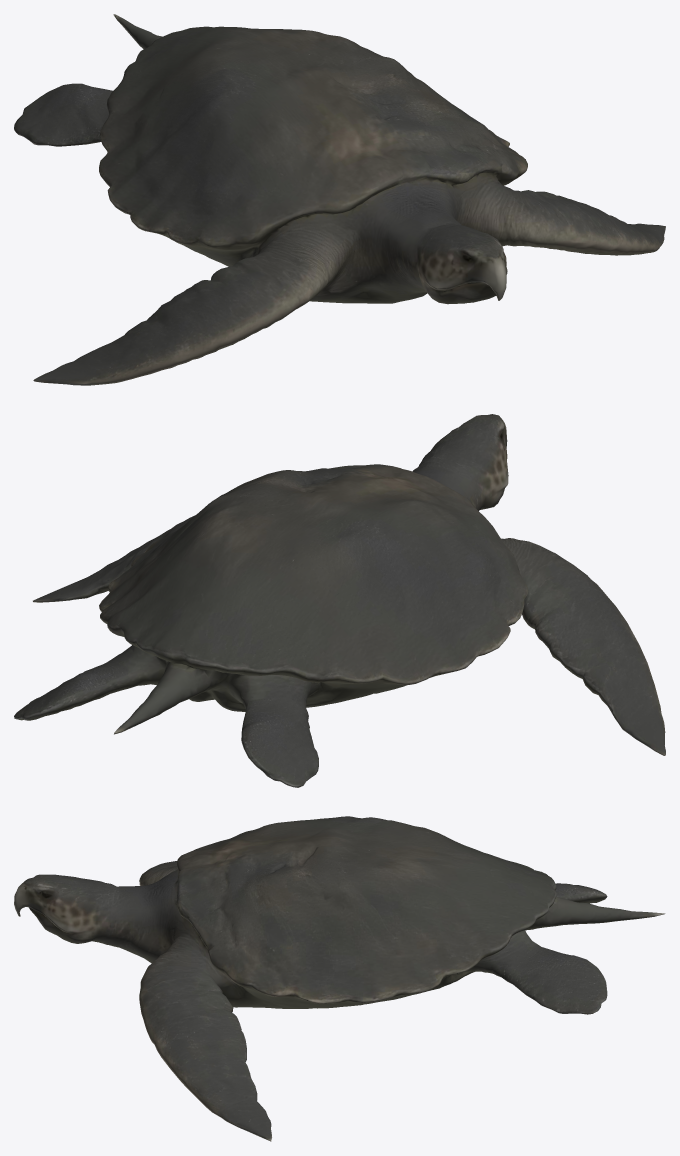
Rendered from archelon.preview.glb.
3 renders of one model, top to bottom at view 1: azimuth 30°, elevation 25°; view 2: azimuth 150°, elevation 25°; view 3: azimuth 270°, elevation 25°, orthographic. The views are drawn at different scales.
Visible parts, largest first — view 1: tripo_node_be26ca9b-cd4a-4014-807e-ab41305d3819.001; view 2: tripo_node_be26ca9b-cd4a-4014-807e-ab41305d3819.001; view 3: tripo_node_be26ca9b-cd4a-4014-807e-ab41305d3819.001.
Part boxes in pixels (x1,y1,x2,y2): tripo_node_be26ca9b-cd4a-4014-807e-ab41305d3819.001: (14, 14, 665, 385); tripo_node_be26ca9b-cd4a-4014-807e-ab41305d3819.001: (14, 414, 665, 787); tripo_node_be26ca9b-cd4a-4014-807e-ab41305d3819.001: (14, 816, 665, 1141).
Size of the model in its own units: 0.9373 by 0.294 by 1.
1 material, 1 textured.
